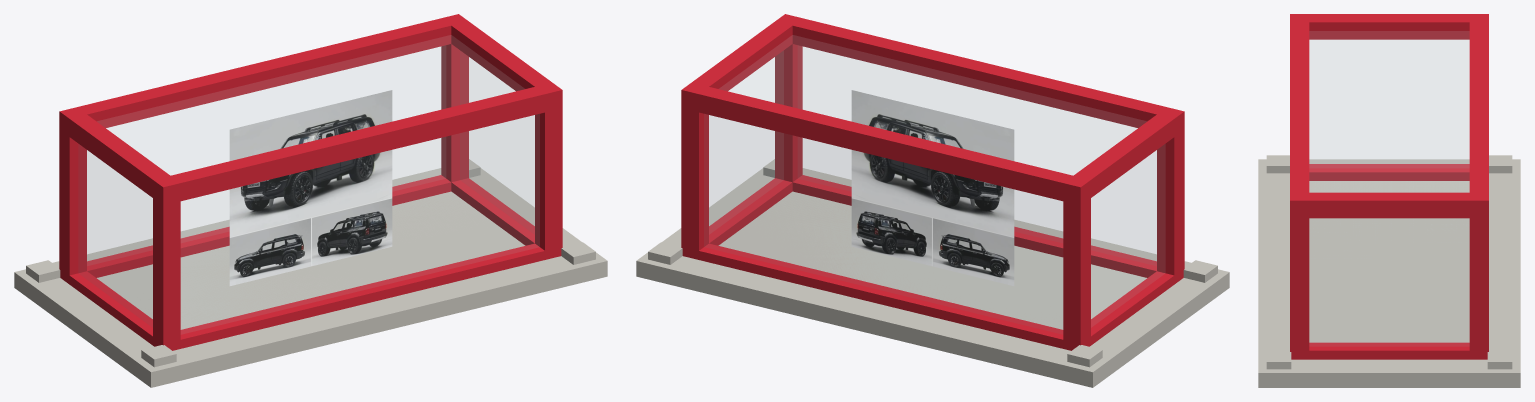
File: land-cruiser-250-black.glb
The picture shows the model from 3 angles, left to right: view 1: azimuth 30°, elevation 25°; view 2: azimuth 150°, elevation 25°; view 3: azimuth 270°, elevation 25°; orthographic projection. The views are drawn at different scales.
Bounding box in the file's own units: 0.183 × 0.0695 × 0.095.
4 materials, 1 textured.
